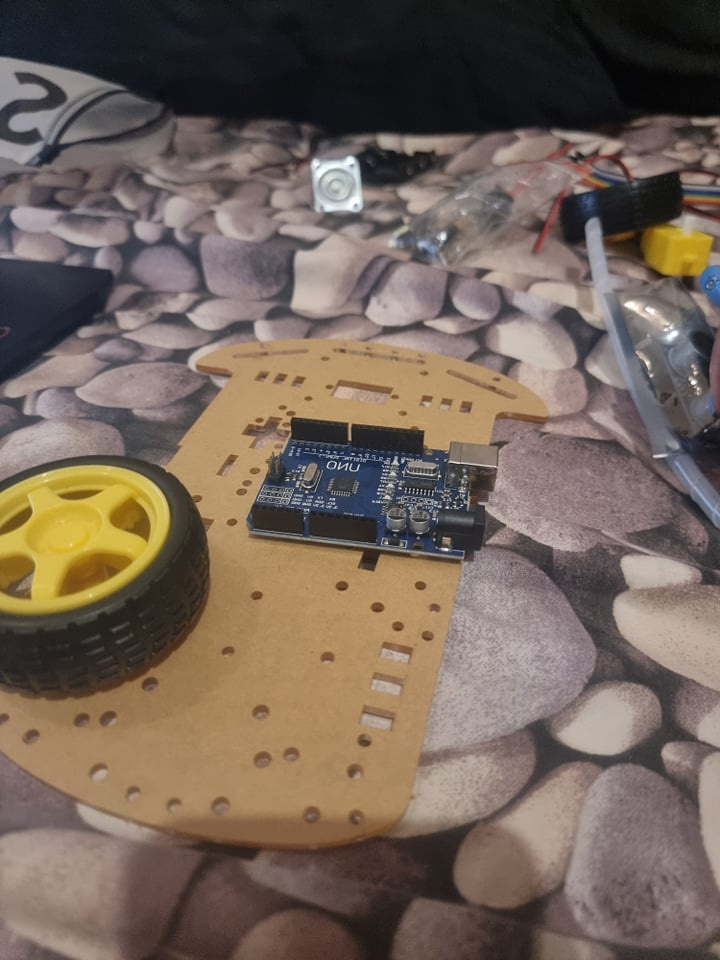5V EXPANSION: (240, 418, 500, 557)
BATTERY BOX: (359, 141, 440, 186)
